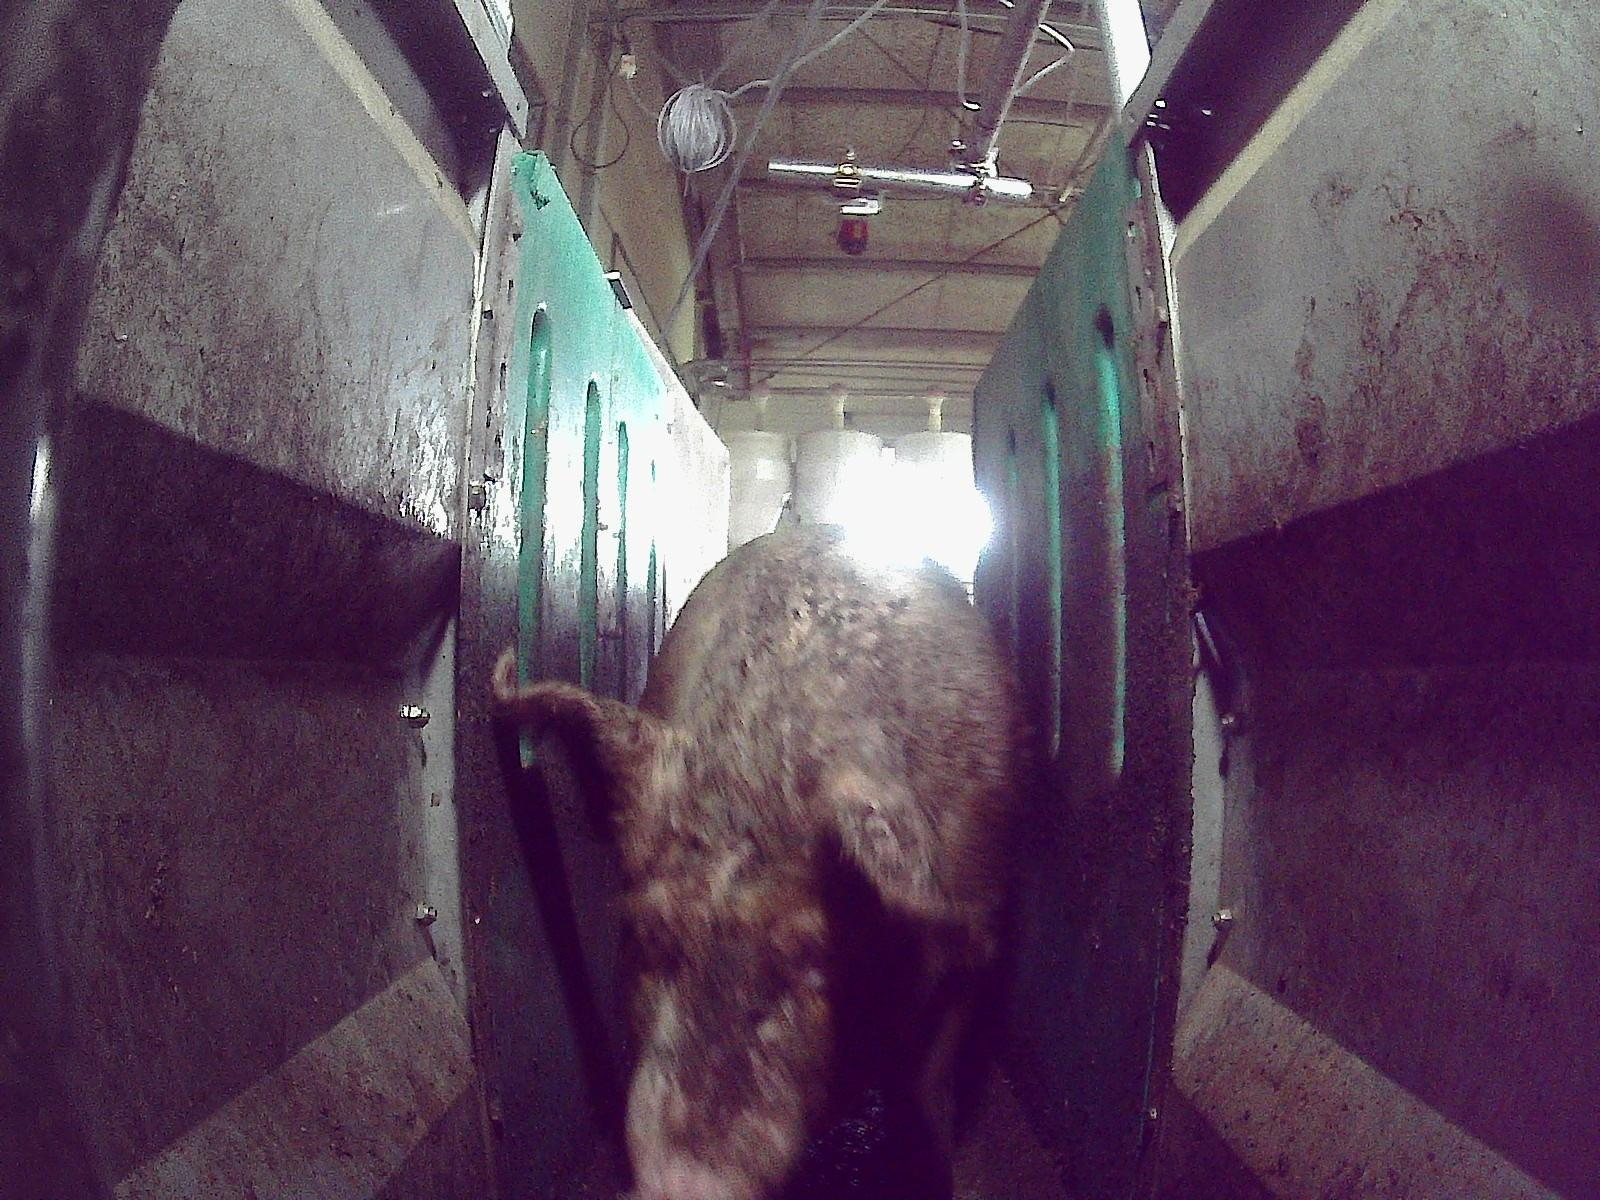Face: (607, 751, 888, 1199)
